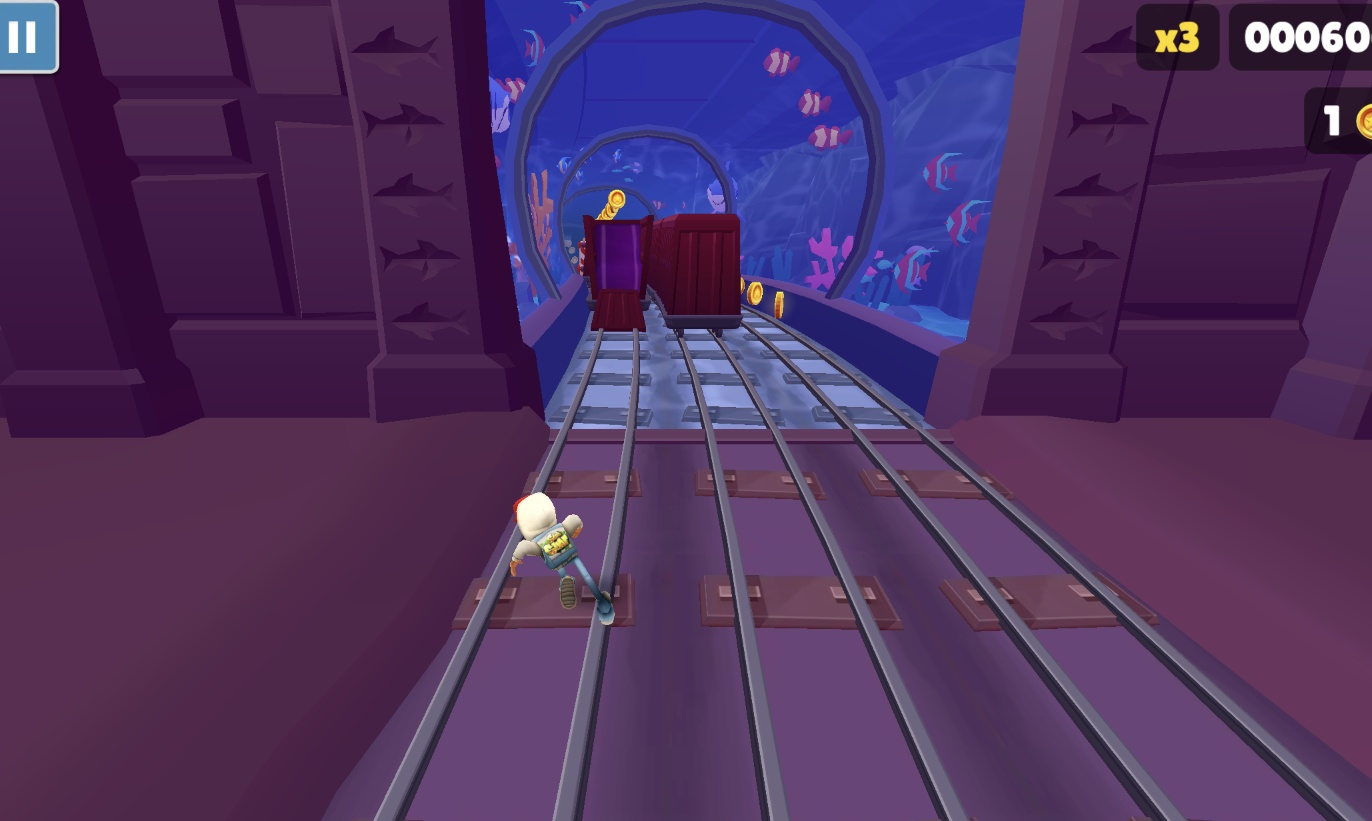overhead_barrier: (570, 239, 589, 278)
train: (649, 214, 745, 333), (584, 216, 652, 334)
